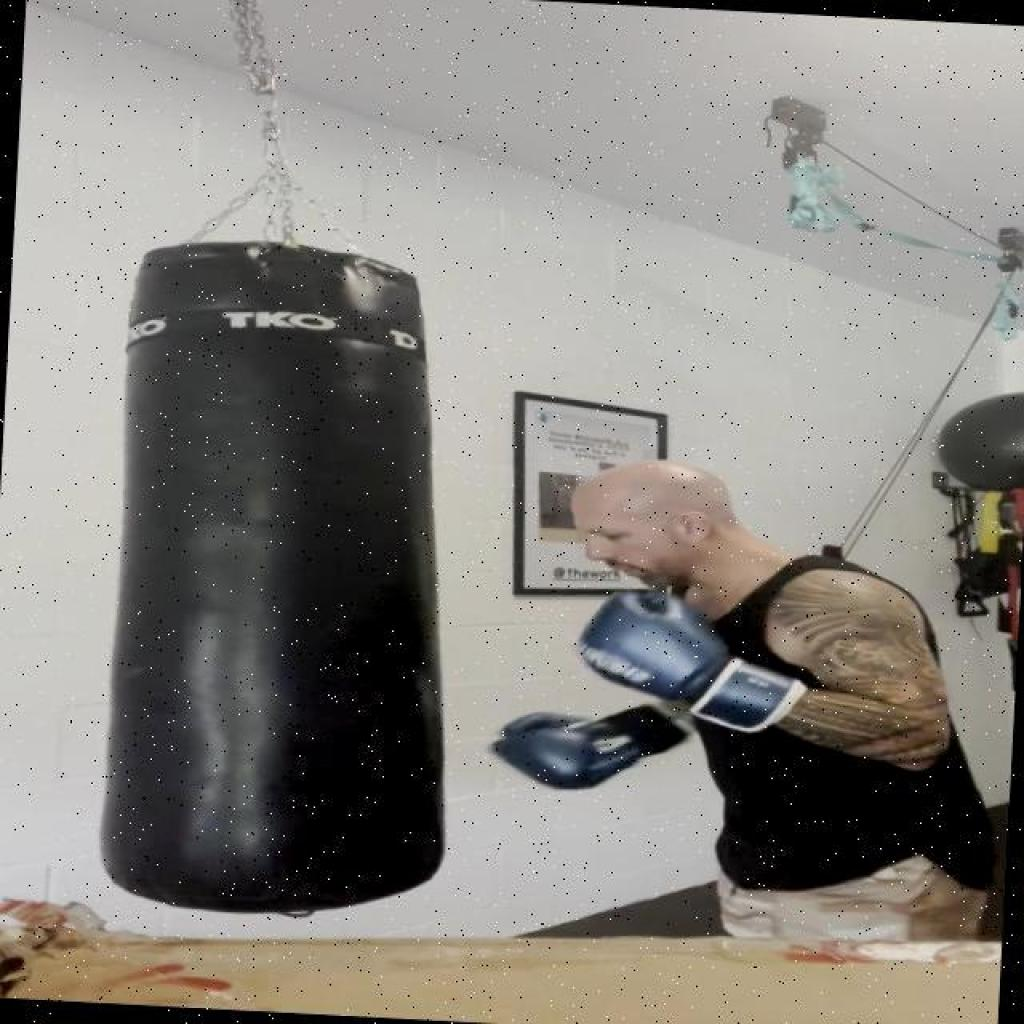bag: (86, 234, 485, 920)
uppercut: (459, 460, 976, 822)
